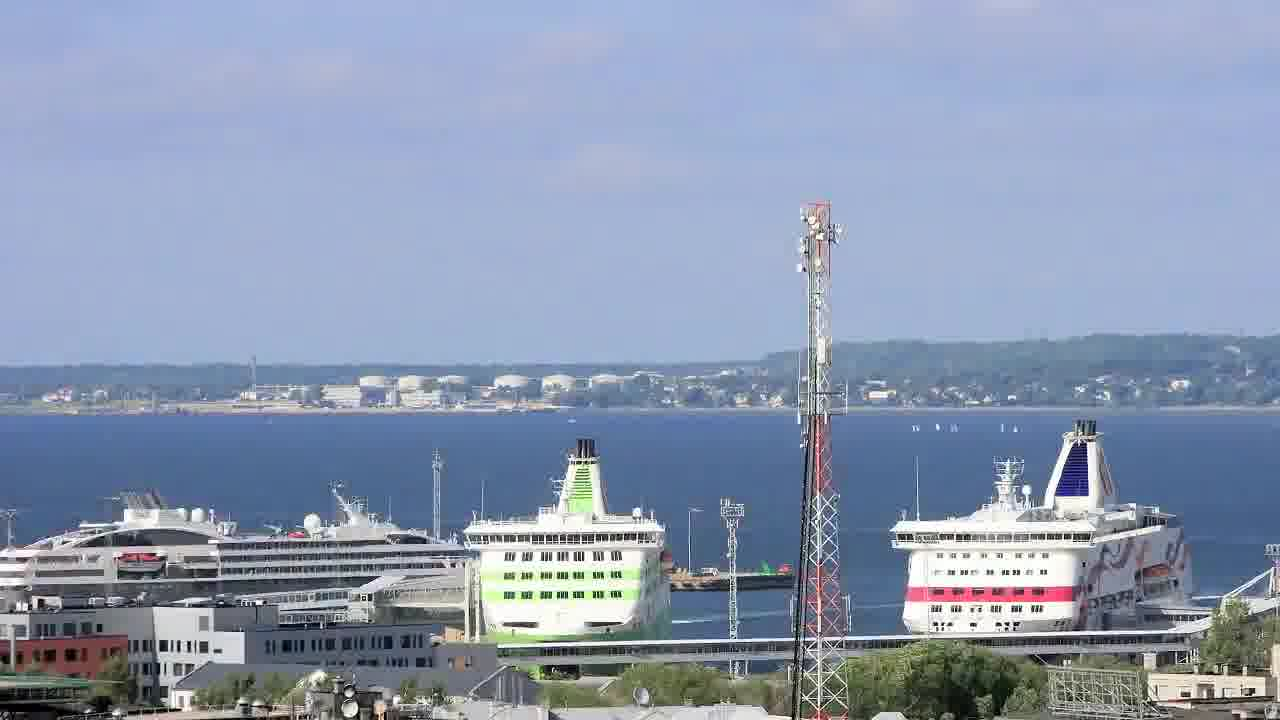type-3: (868, 415, 1225, 638), (0, 474, 497, 607), (436, 434, 694, 670)
